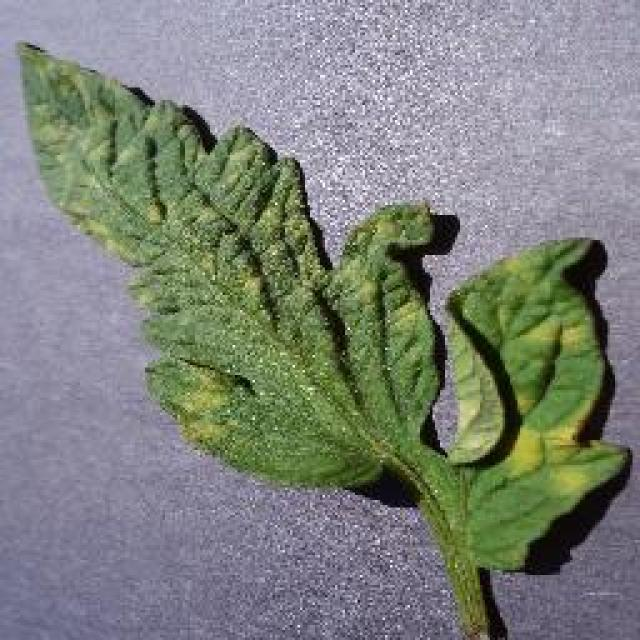Tom_Leaf_Mold: (82, 122, 312, 326)
